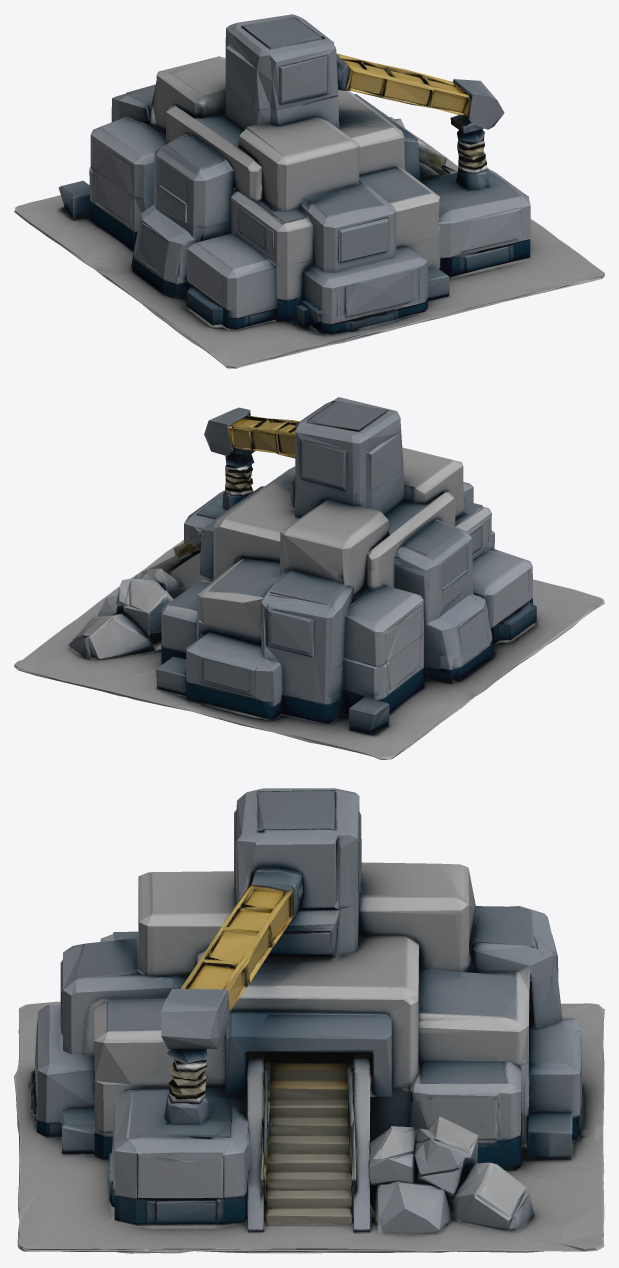
File: Money.glb
3 views of the same model, one above another, from view 1: azimuth 30°, elevation 25°; view 2: azimuth 150°, elevation 25°; view 3: azimuth 270°, elevation 25° (orthographic). The views are drawn at different scales.
Visible parts, largest first — view 1: tripo_node_e1708dfa-3e9f-48e5-bd3e-87b79fb8202f; view 2: tripo_node_e1708dfa-3e9f-48e5-bd3e-87b79fb8202f; view 3: tripo_node_e1708dfa-3e9f-48e5-bd3e-87b79fb8202f.
Part boxes in pixels (left/top/right/bottom): tripo_node_e1708dfa-3e9f-48e5-bd3e-87b79fb8202f: left=14, top=14, right=604, bottom=368; tripo_node_e1708dfa-3e9f-48e5-bd3e-87b79fb8202f: left=14, top=397, right=604, bottom=759; tripo_node_e1708dfa-3e9f-48e5-bd3e-87b79fb8202f: left=14, top=788, right=604, bottom=1253.
Size of the model in its own units: 0.9764 by 0.5541 by 0.9828.
Materials: 1 (1 with a texture image).
